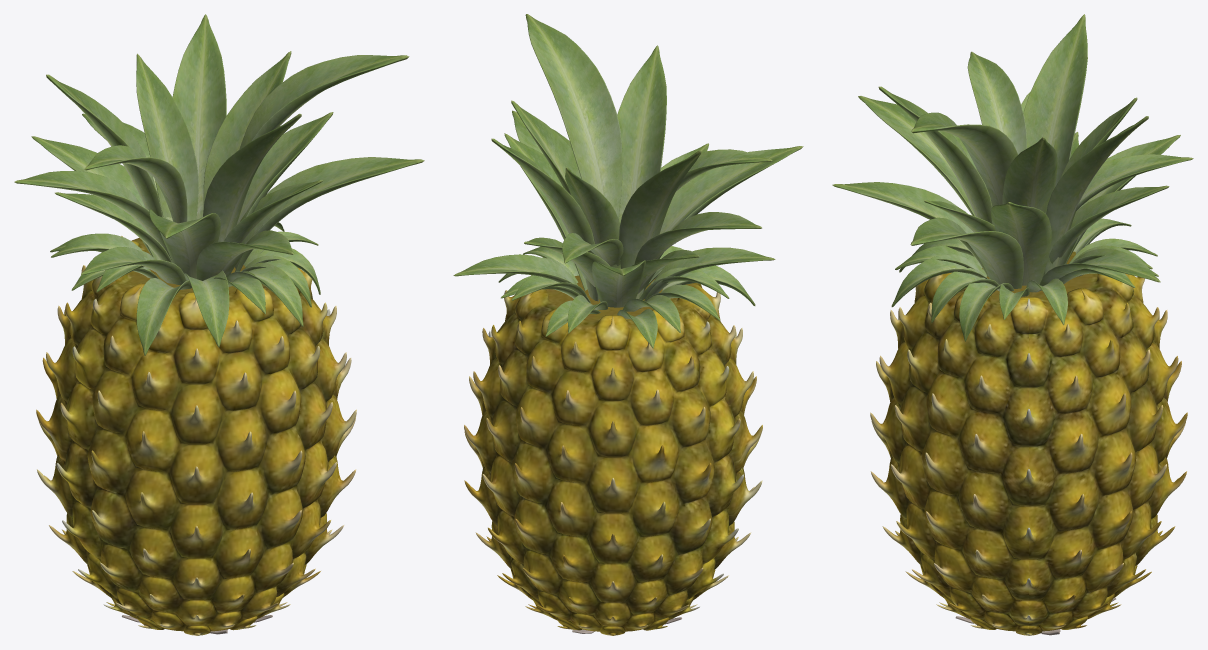
Rendered from SM_YellowPineapple.fbx.
3 views of the same model, side by side, from view 1: azimuth 30°, elevation 25°; view 2: azimuth 150°, elevation 25°; view 3: azimuth 270°, elevation 25° (orthographic). The views are drawn at different scales.
Parts seen in each view (by area): view 1: PineapplePeel, PineappleFruitLeaf; view 2: PineapplePeel, PineappleFruitLeaf; view 3: PineapplePeel, PineappleFruitLeaf.
Part boxes in pixels (x1,y1,x2,y2): PineapplePeel: (36,236,356,635); PineappleFruitLeaf: (14,14,424,355); PineapplePeel: (464,275,762,635); PineappleFruitLeaf: (453,14,803,348); PineapplePeel: (870,251,1187,635); PineappleFruitLeaf: (832,14,1193,341).
Size of what is drawn, in the model's own units: 20.31 by 19 by 31.98.
